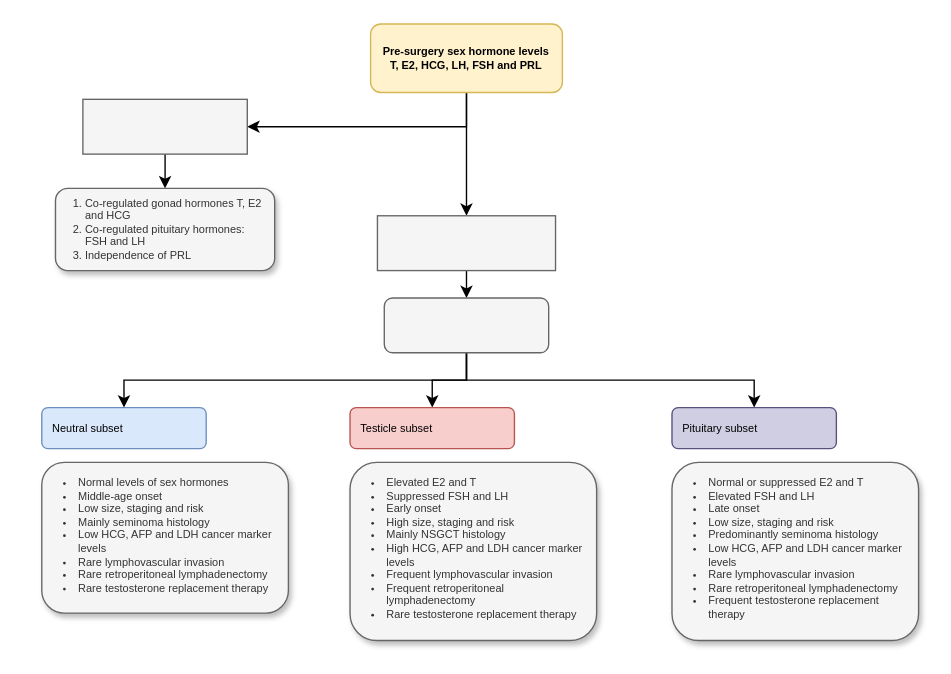
Some shapes in this 951 by 674 pixel diagram are drawn without their labels. Each missing label, with the centre of its shape:
"Latent class analysis with clinical strata of sex hormones" goes at point (466, 242).
"Principal component and correspondence analysis" goes at point (164, 126).
"Three hormonal subsets of testicle cancer" goes at point (466, 325).
